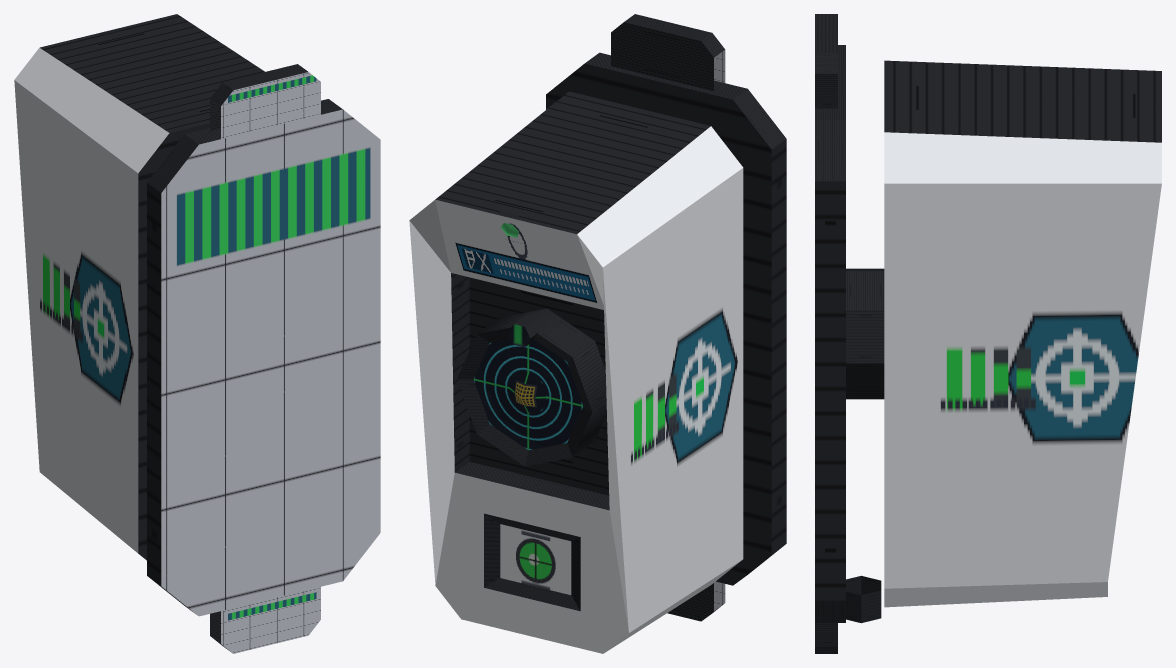
The model's file is SEC_Laser_Barrier_Receiver.fbx.
The picture shows the model from 3 angles, left to right: view 1: azimuth 30°, elevation 25°; view 2: azimuth 150°, elevation 25°; view 3: azimuth 270°, elevation 25°; orthographic projection. The views are drawn at different scales.
Parts seen in each view (by area): view 1: SEC_Laser_Barrier_Receiver, Receiver_Housing; view 2: Receiver_Housing, SEC_Laser_Barrier_Receiver, Optical_Window; view 3: Receiver_Housing, SEC_Laser_Barrier_Receiver.
Part boxes in pixels (x1,y1,x2,y2): SEC_Laser_Barrier_Receiver: [147, 64, 380, 653]; Receiver_Housing: [14, 14, 264, 560]; Receiver_Housing: [409, 91, 743, 653]; SEC_Laser_Barrier_Receiver: [546, 14, 786, 621]; Optical_Window: [457, 308, 606, 466]; Receiver_Housing: [884, 60, 1161, 607]; SEC_Laser_Barrier_Receiver: [815, 14, 884, 653].
Bounding box in the file's own units: 7 × 17.2 × 9.
